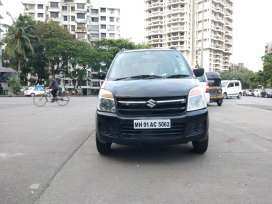license_plate: (134, 120, 170, 127)
